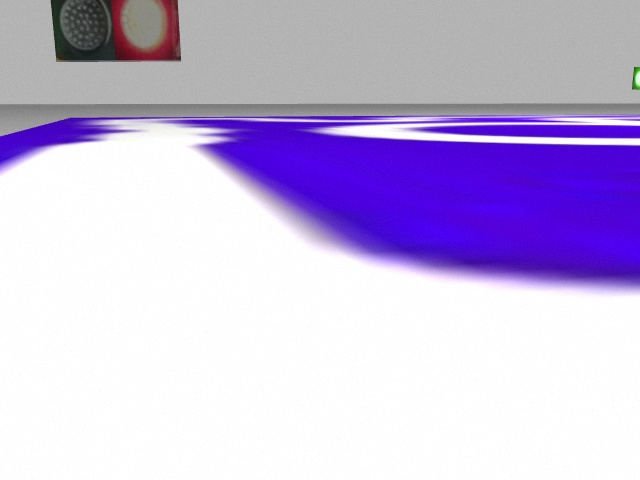red: (113, 1, 183, 61)
